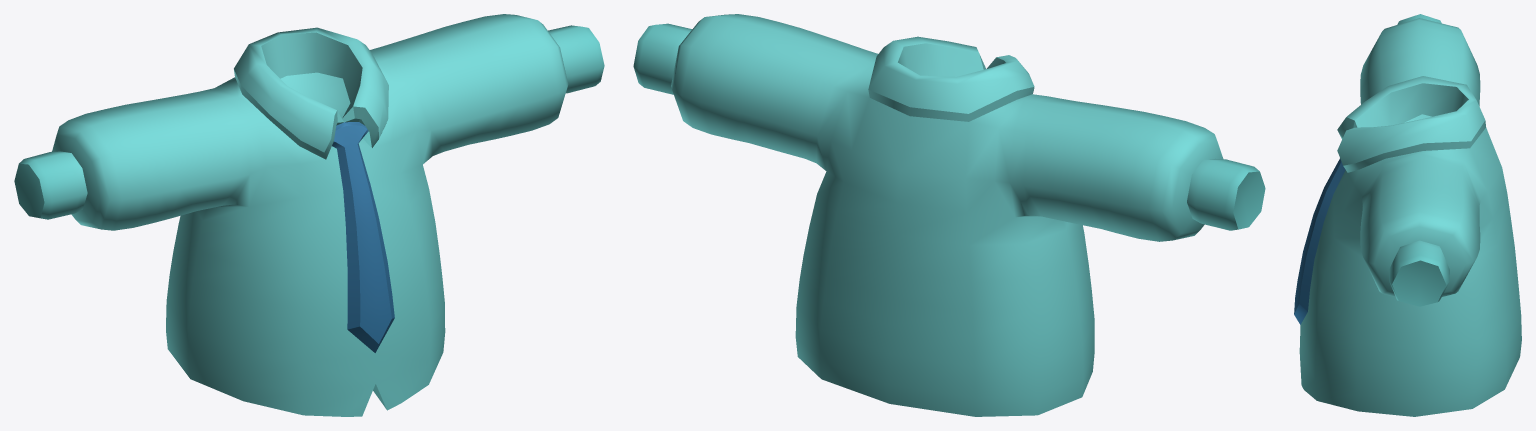
Rendered from Top_36.fbx.
3 views of the same model, side by side, from view 1: azimuth 30°, elevation 25°; view 2: azimuth 150°, elevation 25°; view 3: azimuth 270°, elevation 25° (orthographic). The views are drawn at different scales.
Parts seen in each view (by area): view 1: Top_36; view 2: Top_36; view 3: Top_36.
Part boxes in pixels (left/top/right/bottom): Top_36: left=14, top=14, right=604, bottom=416; Top_36: left=633, top=14, right=1265, bottom=416; Top_36: left=1294, top=14, right=1521, bottom=416.
Bounding box in the file's own units: 95.16 × 50.74 × 37.19.
